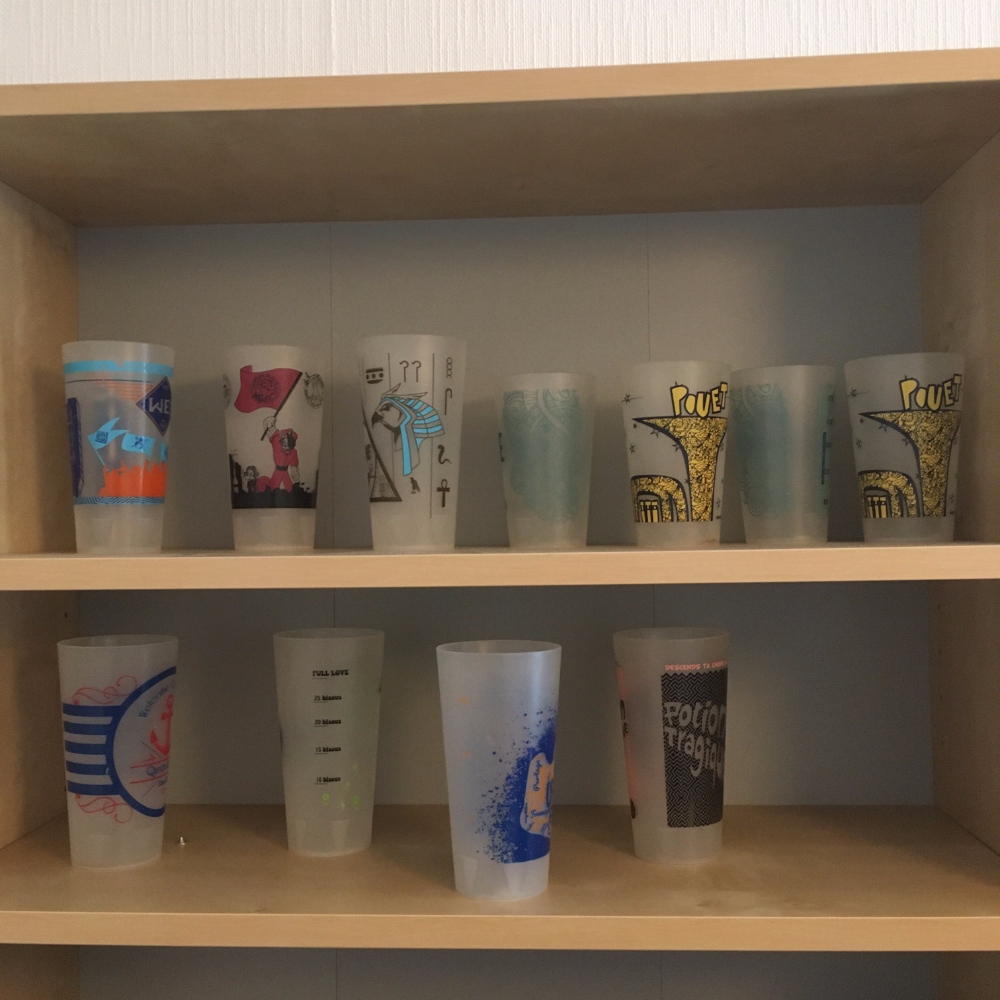ecocup: (435, 638, 563, 901), (57, 635, 181, 875), (613, 625, 731, 866), (273, 626, 385, 855), (353, 334, 469, 550), (60, 340, 175, 555), (844, 353, 971, 543), (218, 343, 325, 552), (618, 360, 731, 549), (728, 365, 842, 548), (489, 371, 598, 551)
